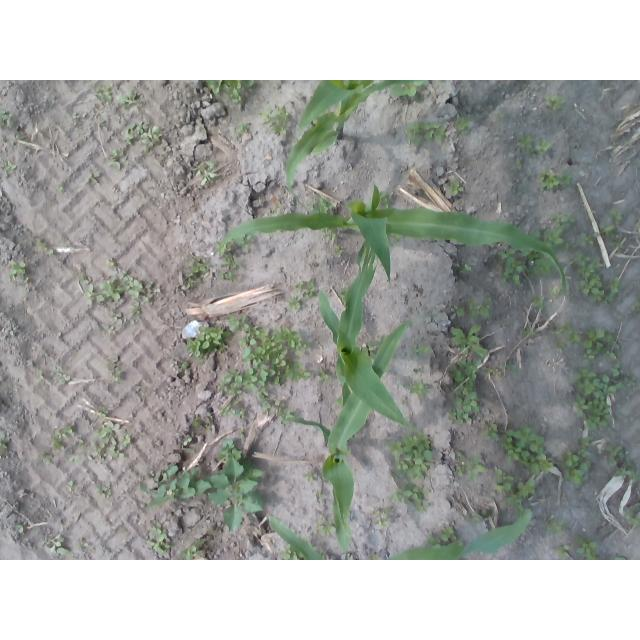Maize: (212, 182, 567, 290), (289, 323, 404, 550), (316, 241, 419, 428), (283, 81, 404, 196), (270, 508, 532, 561)
Weeds: (238, 325, 311, 400), (208, 457, 264, 532), (571, 364, 625, 433), (139, 464, 210, 508), (499, 423, 554, 475), (447, 359, 482, 425), (386, 432, 434, 480), (569, 251, 606, 304), (186, 323, 230, 365), (557, 435, 592, 486), (96, 273, 154, 303), (603, 441, 640, 485), (91, 421, 132, 460), (390, 482, 431, 515), (582, 328, 620, 363), (451, 323, 490, 357), (505, 478, 535, 522), (496, 245, 527, 287), (123, 121, 161, 154), (205, 81, 256, 104), (405, 120, 446, 146), (453, 451, 485, 482), (258, 105, 290, 136), (515, 134, 553, 159), (528, 249, 557, 279), (530, 225, 563, 251), (146, 522, 171, 555), (553, 321, 580, 351), (184, 258, 210, 288), (391, 80, 425, 102), (539, 169, 574, 190), (427, 526, 458, 549), (218, 368, 242, 396), (220, 253, 240, 283), (576, 536, 600, 561), (216, 439, 243, 461), (179, 538, 206, 560), (52, 425, 74, 451), (195, 159, 217, 185), (43, 537, 72, 556), (273, 400, 295, 425), (466, 298, 492, 319), (104, 357, 124, 384), (293, 278, 316, 299), (544, 92, 567, 113), (362, 332, 386, 352), (217, 402, 245, 419), (605, 278, 622, 305), (308, 197, 333, 215), (118, 89, 138, 110), (495, 469, 514, 491), (91, 83, 113, 102), (403, 380, 427, 397), (280, 544, 304, 561), (468, 509, 493, 525), (550, 212, 575, 228), (235, 232, 256, 251), (373, 507, 391, 528), (316, 519, 336, 537), (227, 314, 249, 330), (577, 231, 599, 246), (8, 259, 25, 278), (311, 108, 330, 125), (109, 148, 124, 169), (376, 191, 393, 209), (452, 261, 472, 276), (456, 114, 473, 131), (320, 226, 337, 243), (598, 221, 614, 239), (625, 506, 640, 525), (0, 430, 10, 458), (215, 240, 231, 257), (548, 518, 565, 534), (448, 180, 465, 196), (0, 160, 16, 177), (483, 423, 498, 441), (554, 544, 570, 560), (38, 240, 55, 255), (95, 484, 113, 498), (0, 108, 12, 129), (609, 208, 623, 225), (411, 344, 430, 356), (107, 310, 121, 326), (55, 372, 72, 385), (287, 295, 302, 309), (129, 303, 142, 318), (318, 369, 331, 384), (85, 284, 93, 307), (38, 454, 52, 467), (532, 295, 545, 309), (624, 373, 636, 387), (235, 122, 247, 136), (85, 172, 99, 184), (389, 232, 404, 243), (192, 415, 203, 429), (453, 303, 464, 317), (550, 285, 561, 299), (258, 399, 270, 411), (506, 360, 518, 372), (304, 471, 317, 482), (611, 239, 625, 249), (513, 157, 523, 171), (520, 328, 536, 336), (76, 275, 89, 284), (631, 299, 640, 312), (564, 242, 577, 251), (307, 541, 317, 552), (15, 131, 25, 141), (340, 285, 349, 296), (274, 203, 283, 214), (182, 360, 191, 370), (334, 245, 343, 255), (106, 259, 117, 267), (16, 523, 24, 533), (97, 410, 107, 418), (613, 556, 628, 561), (485, 367, 495, 374), (316, 491, 324, 498), (496, 113, 504, 120), (78, 439, 84, 448), (20, 279, 28, 284)
